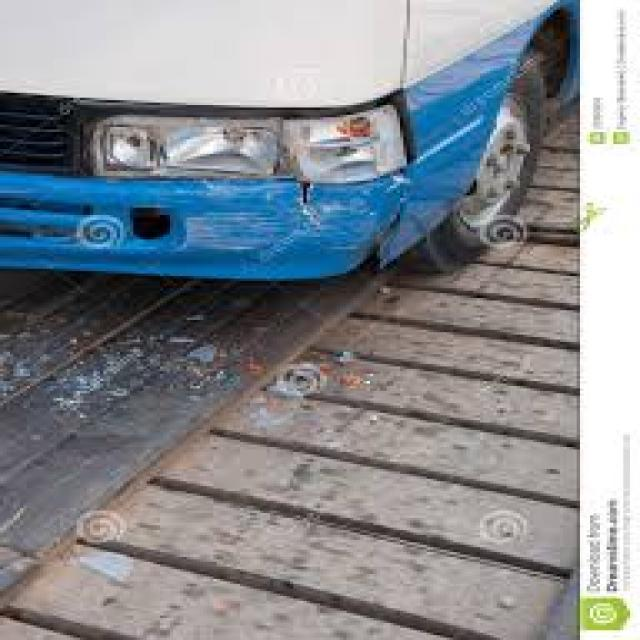damaged-head-light: (79, 98, 409, 192)
